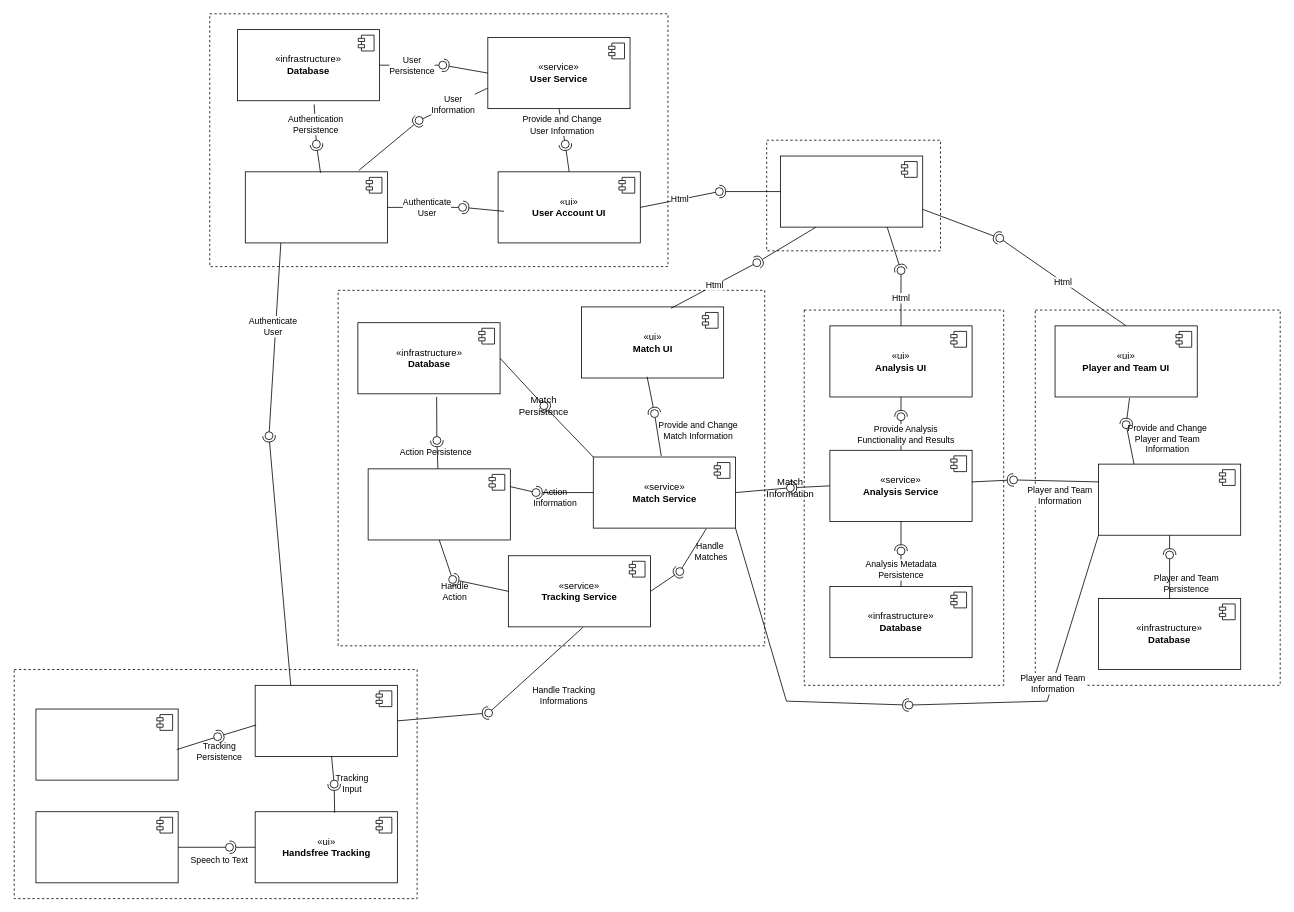
This 1294x912 diagram has some shape labels left out. The shapes that lost their labels are listed below. From the top down, each one's centre as x and y in pixels, then its label:
At pixel 316 207: "«service» Authentication Service".
At pixel 851 191: "«ui» Combined Application UI".
At pixel 438 504: "«service» Action Service".
At pixel 1169 499: "«service» Player and Team Service".
At pixel 325 720: "«ui» Tracking UI".
At pixel 106 744: "«infrastructure» Offline Local Storage".
At pixel 106 847: "«service» Speech to Text Service".
